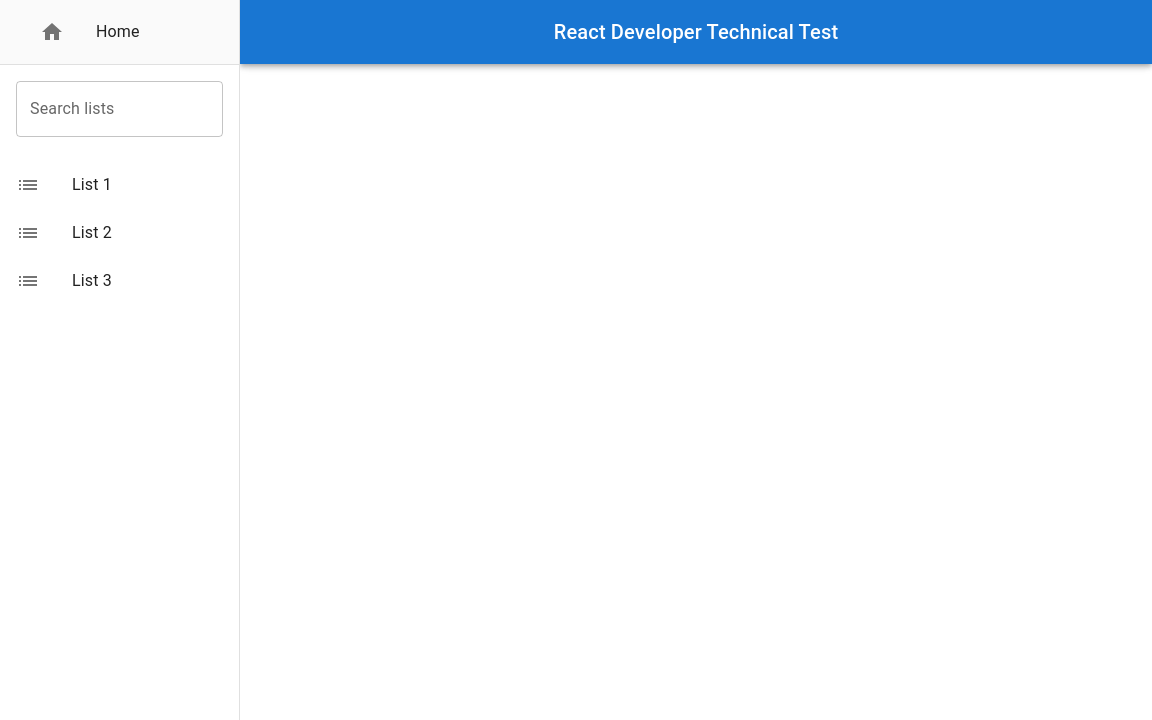
SideBarLayout › displays filtered lists based on search term
The image size is (1152, 720).
Type "List 2" into the field at (108, 109), box left=16, top=81, right=201, bottom=137
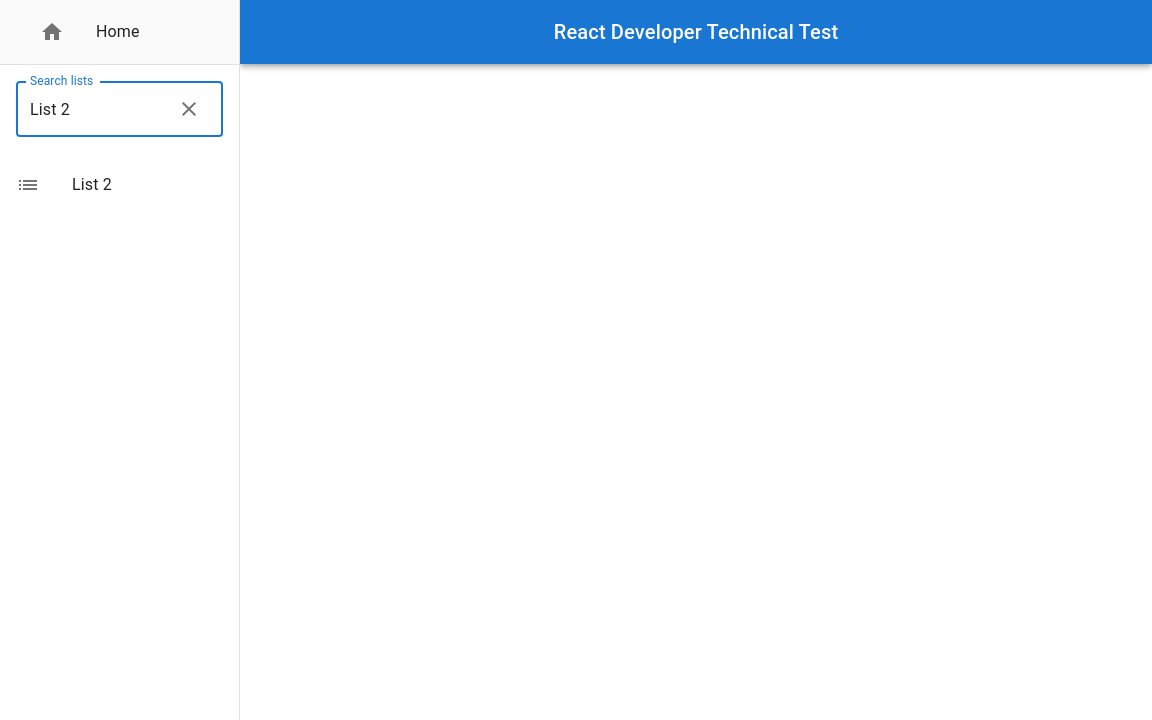
Expected: the element with test id "list-nav-item-text-List2" is shown, left=72, top=175, right=112, bottom=194
Result: the element with test id "list-nav-item-text-List1" is gone
